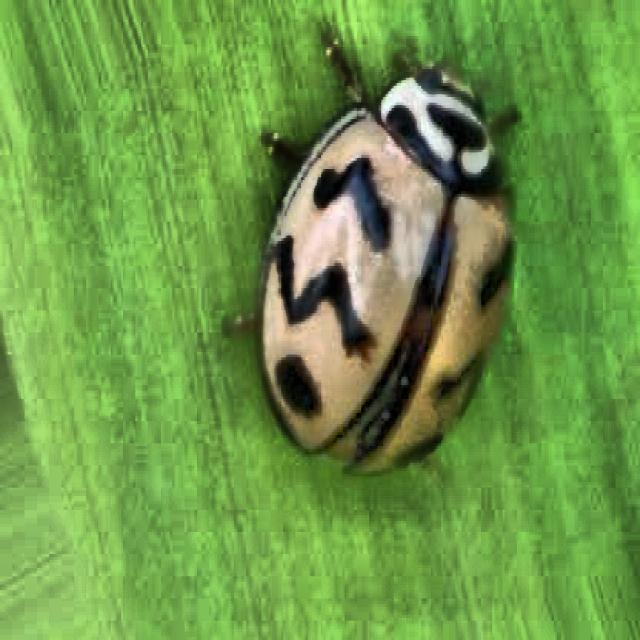Asian-Lady-beetle: (227, 20, 556, 568)
